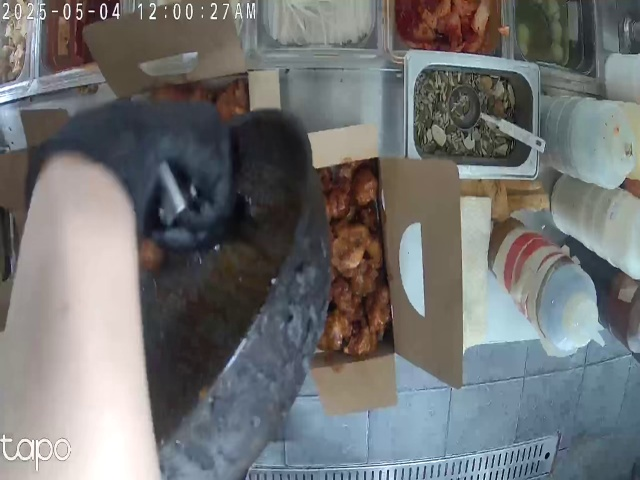delivery box: (317, 138, 448, 405), (79, 10, 291, 110)
food: (318, 170, 390, 361), (130, 80, 243, 119)
hand: (50, 77, 212, 237)
